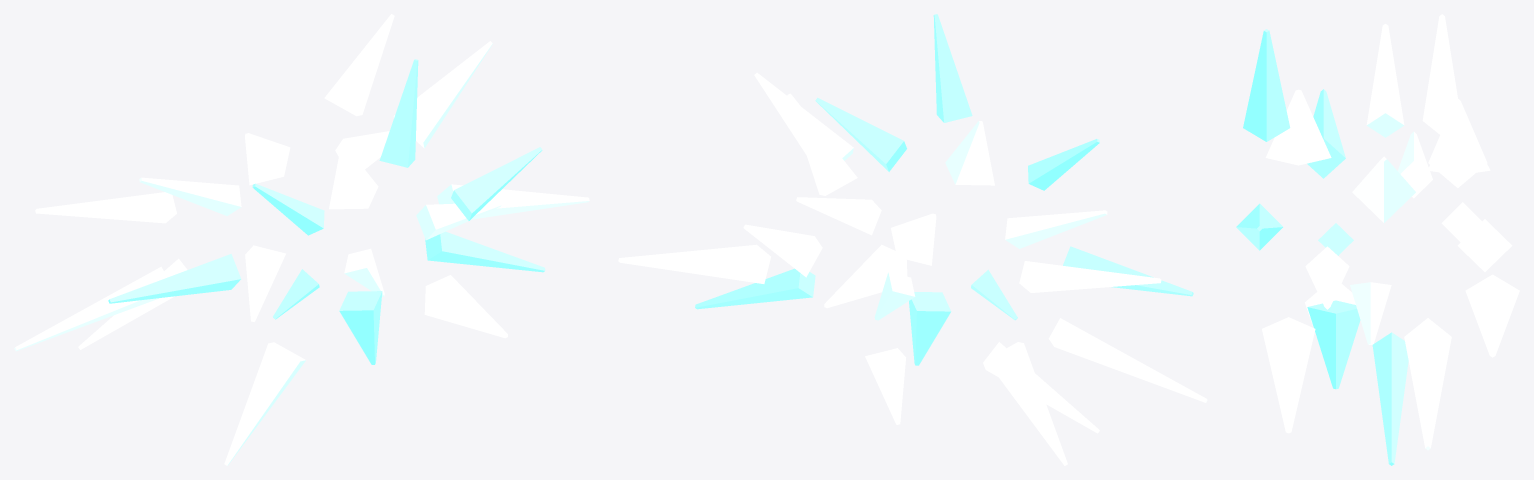
The model's file is glint.glb.
3 views of the same model, side by side, from view 1: azimuth 30°, elevation 25°; view 2: azimuth 150°, elevation 25°; view 3: azimuth 270°, elevation 25° (orthographic). The views are drawn at different scales.
Visible parts, largest first — view 1: Ice Glint dimensional effect.001; view 2: Ice Glint dimensional effect.001; view 3: Ice Glint dimensional effect.001.
Part boxes in pixels (x1=…): Ice Glint dimensional effect.001: x1=14, y1=14, x2=589, y2=465; Ice Glint dimensional effect.001: x1=618, y1=14, x2=1207, y2=465; Ice Glint dimensional effect.001: x1=1236, y1=14, x2=1519, y2=465.
Bounding box in the file's own units: 1.59 × 1.02 × 0.5997.
